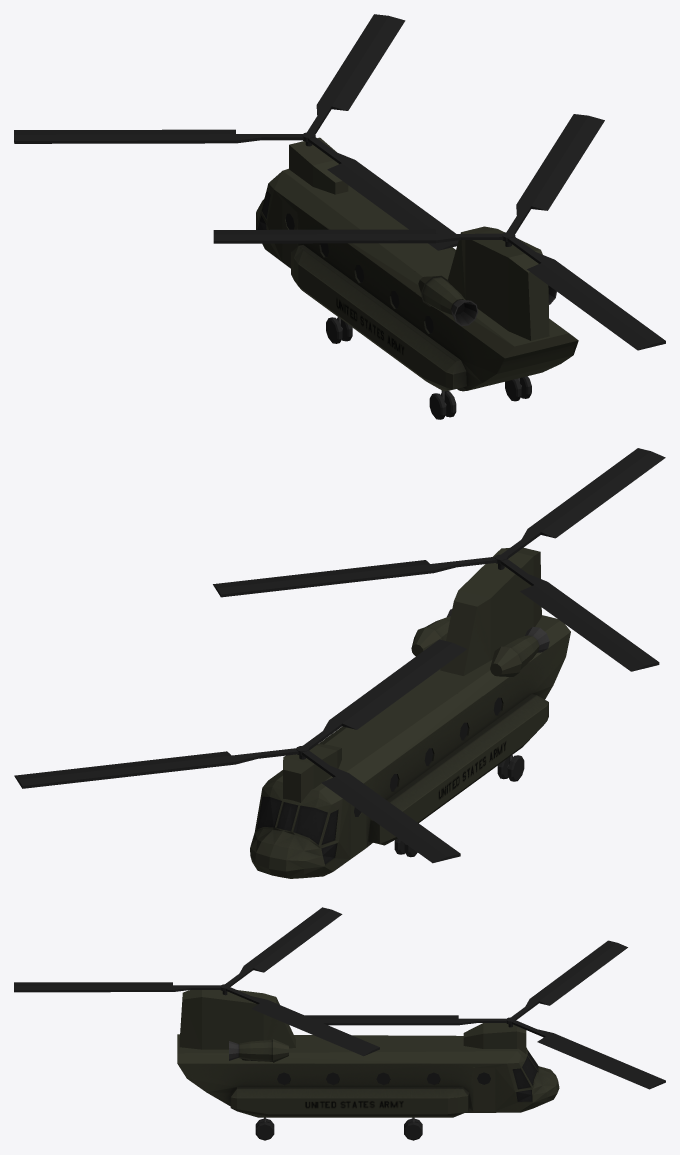
3 renders of one model, top to bottom at view 1: azimuth 30°, elevation 25°; view 2: azimuth 150°, elevation 25°; view 3: azimuth 270°, elevation 25°, orthographic. The views are drawn at different scales.
Visible parts, largest first — view 1: Body, Blade1 (×2), Blade2 (×2), Blade3 (×2), Truster_Left, Rear_Door, Wheel_Left_Back; view 2: Body, Blade1 (×2), Blade2 (×2), Blade3 (×2), Truster_Left, Truster_Right, Door_Left; view 3: Body, Blade3 (×2), Blade1 (×2), Blade2 (×2), Truster_Right, Door_Right, Wheel_Right_Back, Wheel_Right_Front.
Part boxes in pixels (x1,y1,x2,y2): Body: [256, 137, 578, 391]; Blade1 (×2): [14, 129, 503, 243]; Blade2 (×2): [308, 137, 665, 350]; Blade3 (×2): [307, 14, 604, 233]; Truster_Left: [418, 275, 478, 326]; Rear_Door: [470, 347, 573, 389]; Wheel_Left_Back: [429, 390, 456, 419]; Body: [250, 547, 570, 878]; Blade1 (×2): [302, 559, 659, 863]; Blade2 (×2): [303, 448, 665, 749]; Blade3 (×2): [14, 556, 497, 788]; Truster_Left: [490, 627, 549, 676]; Truster_Right: [411, 609, 452, 656]; Door_Left: [351, 804, 366, 858]; Body: [177, 990, 559, 1117]; Blade3 (×2): [225, 987, 665, 1089]; Blade1 (×2): [225, 907, 627, 1019]; Blade2 (×2): [14, 982, 507, 1025]; Truster_Right: [229, 1039, 288, 1062]; Door_Right: [473, 1067, 495, 1111]; Wheel_Right_Back: [255, 1117, 274, 1140]; Wheel_Right_Front: [404, 1117, 422, 1140].
Size of the model in its own units: 9.42 by 4.15 by 17.68.
